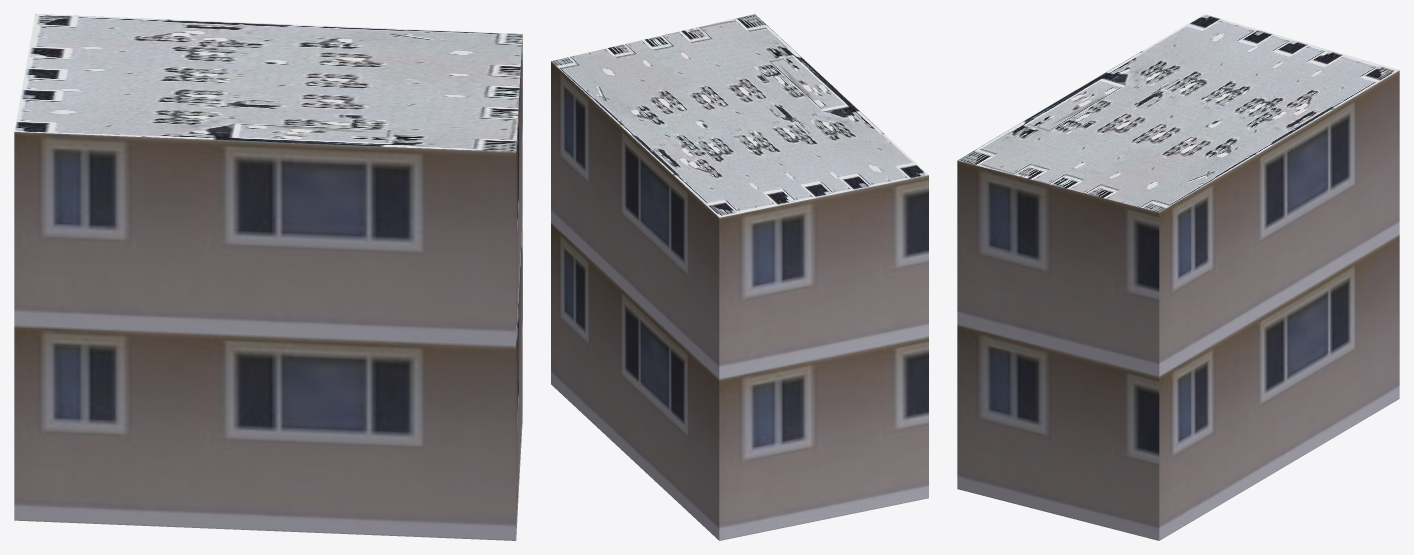
File: ResTex__555.fbx
3 renders of one model, left to right at view 1: azimuth 30°, elevation 25°; view 2: azimuth 150°, elevation 25°; view 3: azimuth 270°, elevation 25°, orthographic. The views are drawn at different scales.
Visible parts, largest first — view 1: CityEngineMaterial_21_m, CityEngineMaterial_2_m; view 2: CityEngineMaterial_21_m, CityEngineMaterial_2_m; view 3: CityEngineMaterial_21_m, CityEngineMaterial_2_m.
Part boxes in pixels (x1=…): CityEngineMaterial_21_m: x1=14, y1=35, x2=522, y2=540; CityEngineMaterial_2_m: x1=14, y1=14, x2=522, y2=152; CityEngineMaterial_21_m: x1=551, y1=61, x2=928, y2=540; CityEngineMaterial_2_m: x1=551, y1=14, x2=928, y2=217; CityEngineMaterial_21_m: x1=957, y1=70, x2=1399, y2=540; CityEngineMaterial_2_m: x1=957, y1=14, x2=1399, y2=212.
Size of the model in its own units: 7.77 by 6 by 7.33.
Materials: 2 (2 with a texture image).
